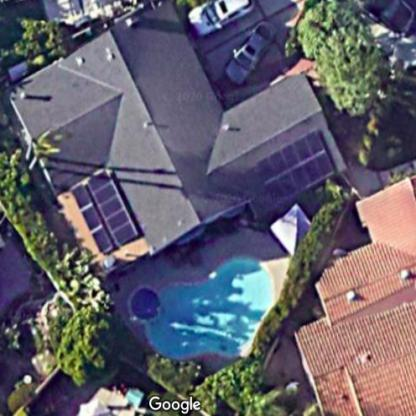car: (222, 22, 282, 91), (184, 3, 263, 32)
solar_panel: (58, 166, 145, 252), (249, 126, 336, 201)
swimming_pool: (124, 260, 289, 371)
